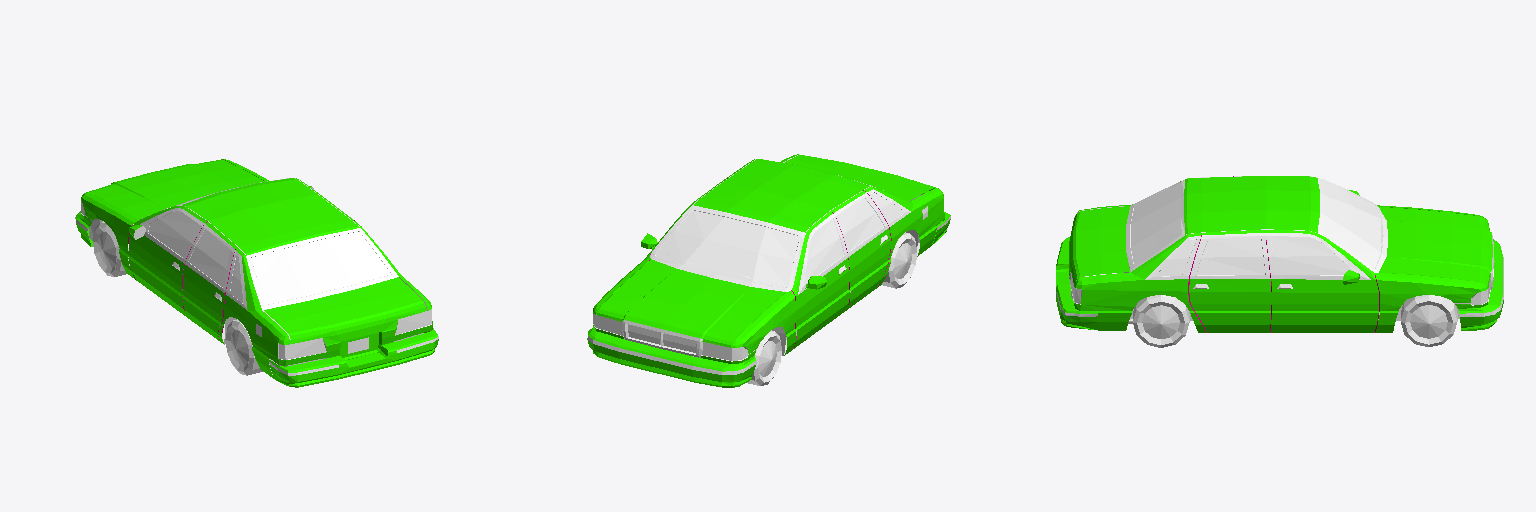
Rendered from premier.obj.
3 renders of one model, left to right at view 1: azimuth 30°, elevation 25°; view 2: azimuth 150°, elevation 25°; view 3: azimuth 270°, elevation 25°, orthographic.
Visible parts, largest first — view 1: chassis, boot_ok, door_lf_ok, bonnet_ok, door_lr_ok, bump_rear_ok, wheel.002_wheel, wheel.003_wheel; view 2: chassis, bonnet_ok, windscreen_ok, door_lf_ok, bump_front_ok, door_lr_ok, boot_ok, wheel.002_wheel, wheel.003_wheel; view 3: chassis, door_rf_ok, door_rr_ok, bonnet_ok, boot_ok, windscreen_ok, wheel, wheel.001_wheel, bump_front_ok, bump_rear_ok.
Part boxes in pixels (x1,y1,x2,y2): chassis: (81,159,432,378); boot_ok: (264,277,426,344); door_lf_ok: (128,206,206,317); bonnet_ok: (89,160,264,219); door_lr_ok: (182,222,237,340); bump_rear_ok: (269,328,438,387); wheel.002_wheel: (225,319,263,375); wheel.003_wheel: (93,221,126,276); chassis: (593,154,944,361); bonnet_ok: (597,259,784,347); windscreen_ok: (655,210,799,287); door_lf_ok: (792,211,849,348); bump_front_ok: (587,325,756,387); door_lr_ok: (831,191,890,310); boot_ok: (785,155,935,200); wheel.002_wheel: (882,232,916,288); wheel.003_wheel: (747,330,781,385); chassis: (1069,176,1494,332); door_rf_ok: (1266,230,1378,332); door_rr_ok: (1189,230,1271,332); bonnet_ok: (1379,207,1492,287); boot_ok: (1069,206,1129,283); windscreen_ok: (1323,182,1380,268); wheel: (1401,295,1457,346); wheel.001_wheel: (1133,295,1189,347); bump_front_ok: (1455,239,1503,330); bump_rear_ok: (1056,237,1097,329).
Bounding box in the file's own units: 2.58 × 1.52 × 5.5.